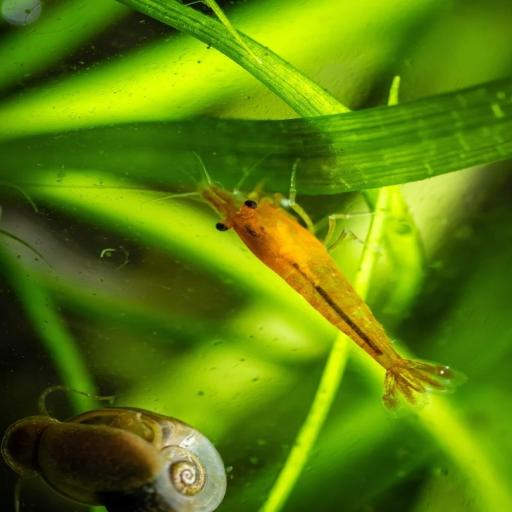Shrimp: (136, 127, 483, 409)
Snail: (0, 379, 242, 512)
